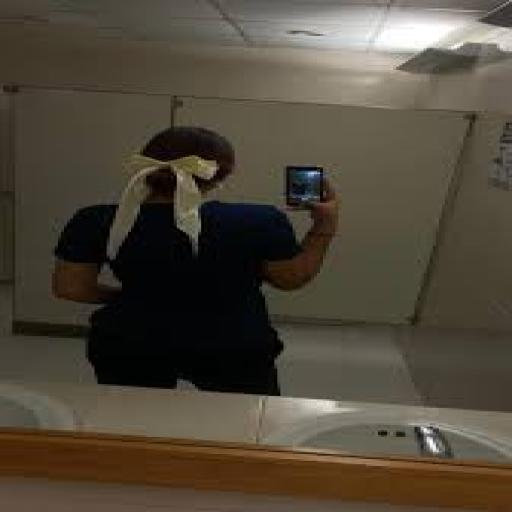phone: (286, 165, 349, 219)
